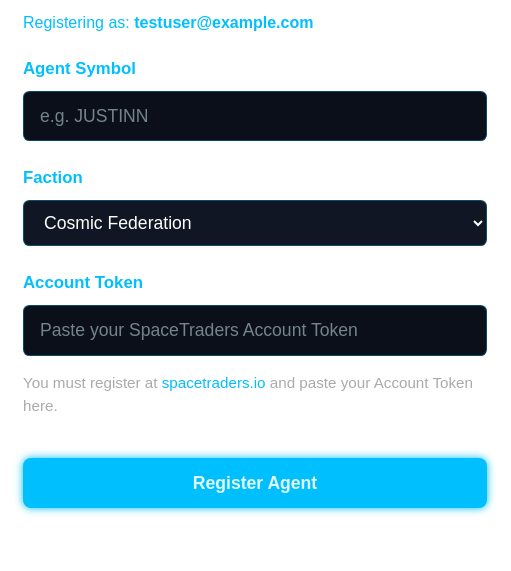
it: RegisterAgentForm › shows network error
In the field labelled "Agent Symbol": (255, 116) [23, 91, 487, 141], type "AGENT"
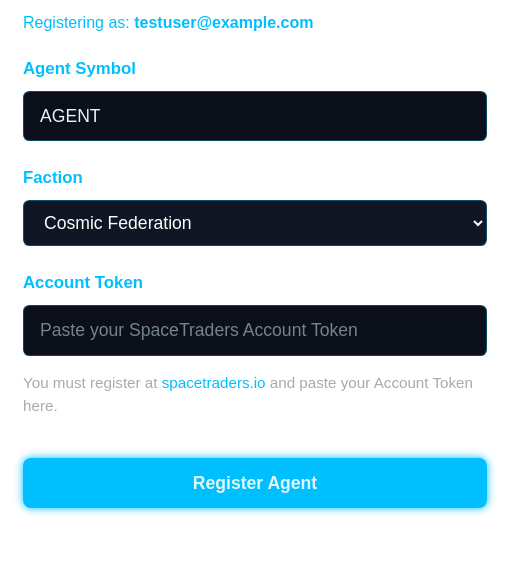
In the field labelled "Account Token": (255, 331) [23, 305, 487, 356], type "token"
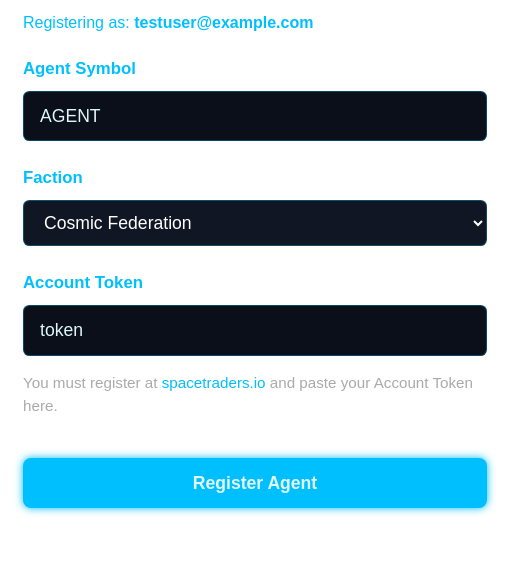
Click the button "Register Agent": (255, 483) [23, 458, 487, 508]
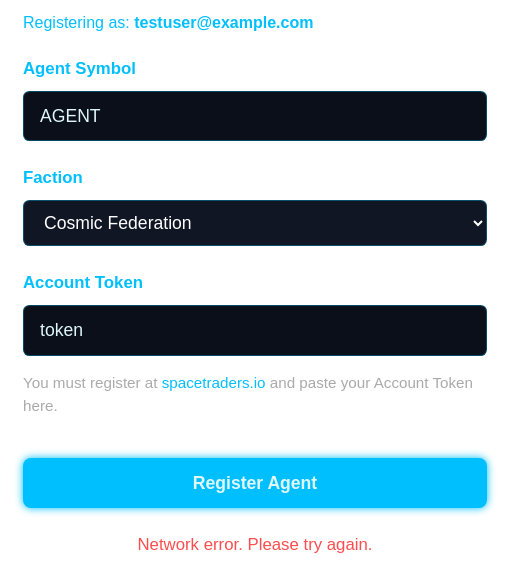
Check: the text "Network error. Please try again." is shown, box [138, 535, 372, 554]
